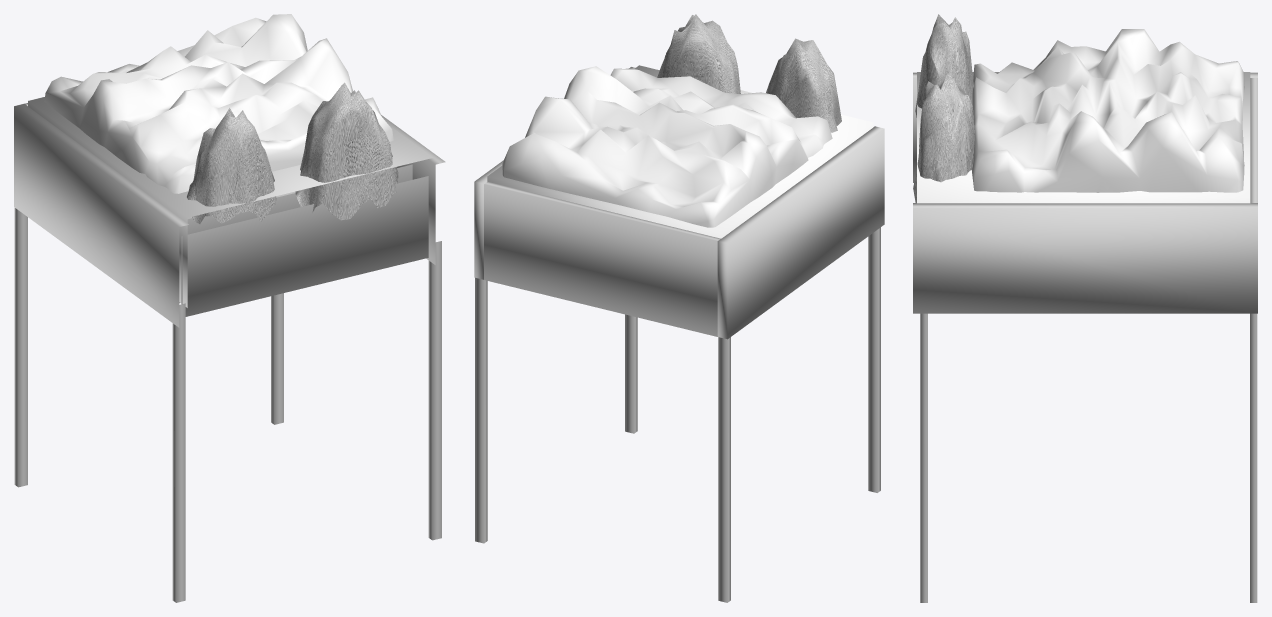
The model's file is bed.glb.
3 views of the same model, side by side, from view 1: azimuth 30°, elevation 25°; view 2: azimuth 150°, elevation 25°; view 3: azimuth 270°, elevation 25° (orthographic). The views are drawn at different scales.
Parts seen in each view (by area): view 1: stktex_generic_WoodA.png__, stk_generic_colorfabricA.png__, whiteTowel.jpg__; view 2: stktex_generic_WoodA.png__, stk_generic_colorfabricA.png__, whiteTowel.jpg__; view 3: stktex_generic_WoodA.png__, stk_generic_colorfabricA.png__, whiteTowel.jpg__.
Boxes of the visible parts, box(x1,y1,x2,y2) form: stktex_generic_WoodA.png__: box(14, 103, 445, 602); stk_generic_colorfabricA.png__: box(28, 14, 433, 307); whiteTowel.jpg__: box(187, 82, 398, 223); stktex_generic_WoodA.png__: box(474, 67, 884, 602); stk_generic_colorfabricA.png__: box(487, 65, 873, 238); whiteTowel.jpg__: box(657, 14, 841, 132); stktex_generic_WoodA.png__: box(913, 72, 1257, 602); stk_generic_colorfabricA.png__: box(917, 29, 1250, 203); whiteTowel.jpg__: box(913, 14, 974, 202).
Size of the model in its own units: 2.33 by 3.9 by 2.51.
Materials: 3 (1 with a texture image).
